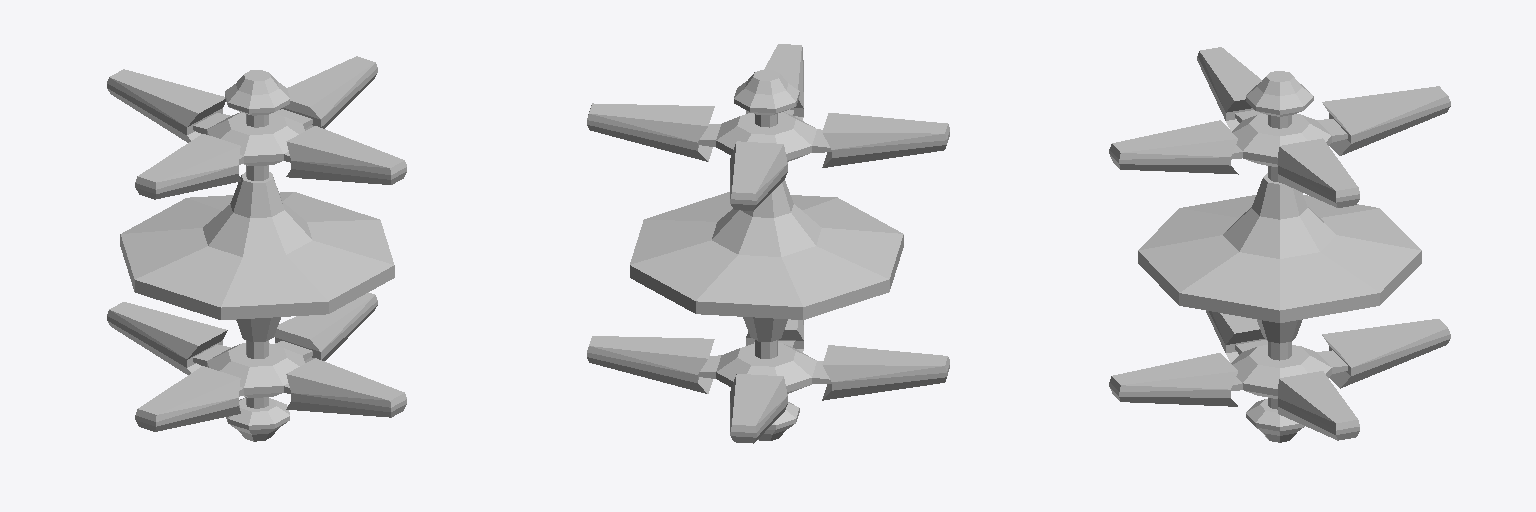
Rendered from hexa.obj.
The picture shows the model from 3 angles: view 1: azimuth 30°, elevation 25°; view 2: azimuth 150°, elevation 25°; view 3: azimuth 270°, elevation 25°; orthographic projection.
Parts seen in each view (by area): view 1: Objekt035; view 2: Objekt035; view 3: Objekt035.
Part boxes in pixels (left/top/right/bottom): Objekt035: left=107, top=56, right=406, bottom=441; Objekt035: left=587, top=44, right=949, bottom=443; Objekt035: left=1109, top=47, right=1450, bottom=442.
Bounding box in the file's own units: 2.19 × 2.52 × 2.16.